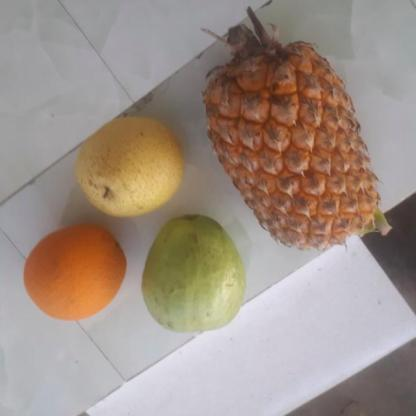guava: (142, 221, 248, 330)
orange: (21, 225, 130, 321)
pear: (73, 115, 188, 217)
pineapple: (208, 37, 382, 249)
